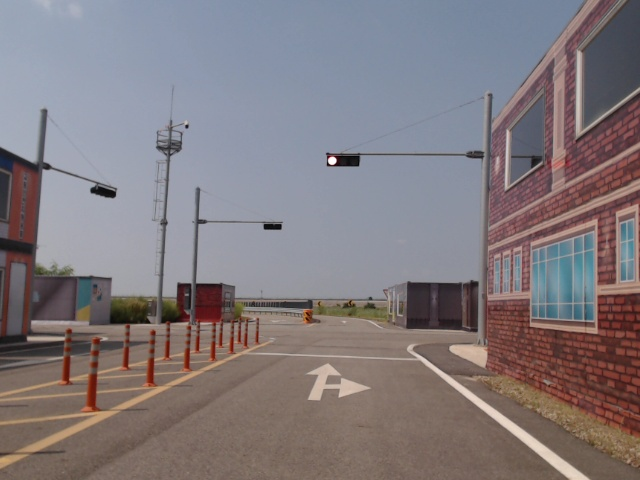red_3: (328, 155, 362, 168)
